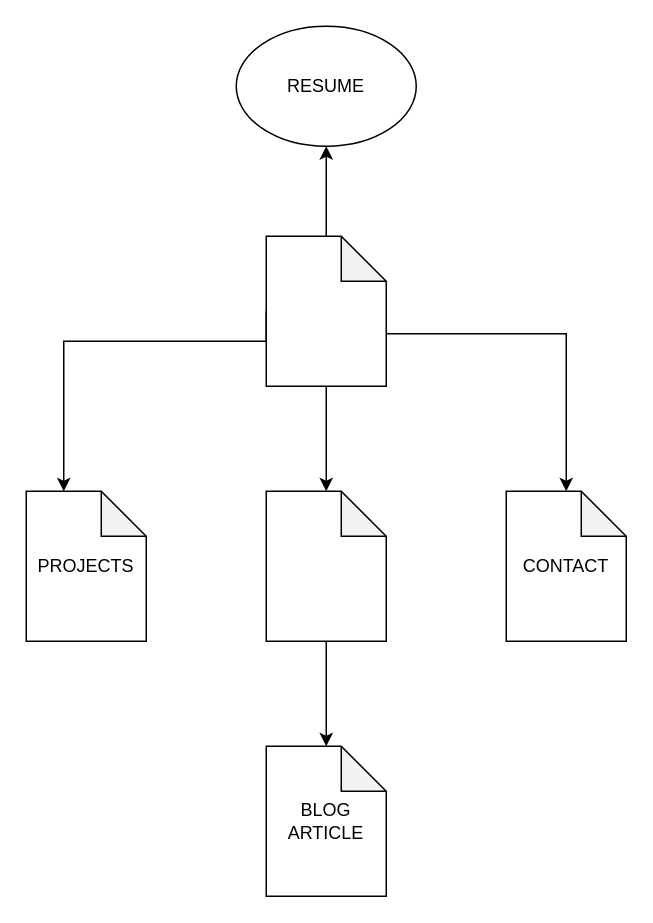
This 653x923 diagram has some shape labels left out. Each missing label, with the centre of its shape:
BLOG: [325,565]
HOME: [325,310]
